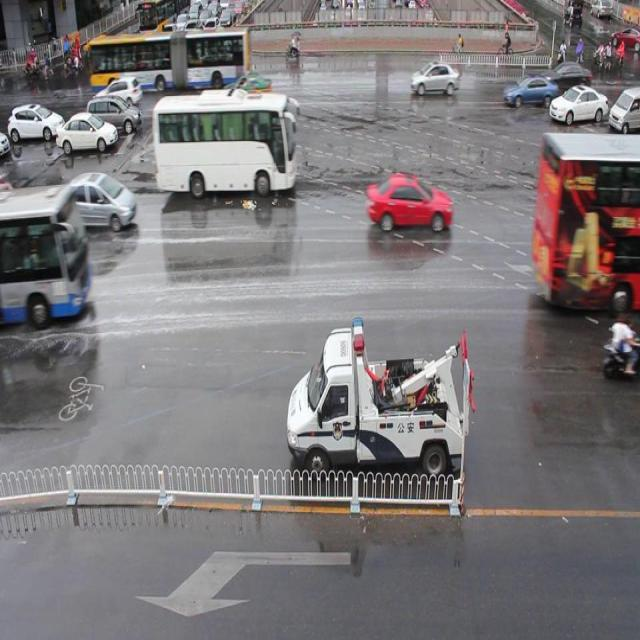car: (366, 170, 450, 233), (63, 171, 137, 231), (548, 82, 606, 123), (221, 71, 273, 112), (501, 75, 556, 108), (410, 61, 459, 98), (541, 59, 590, 93)
van: (534, 132, 640, 309), (153, 95, 295, 192), (1, 183, 90, 321), (91, 30, 249, 89)
